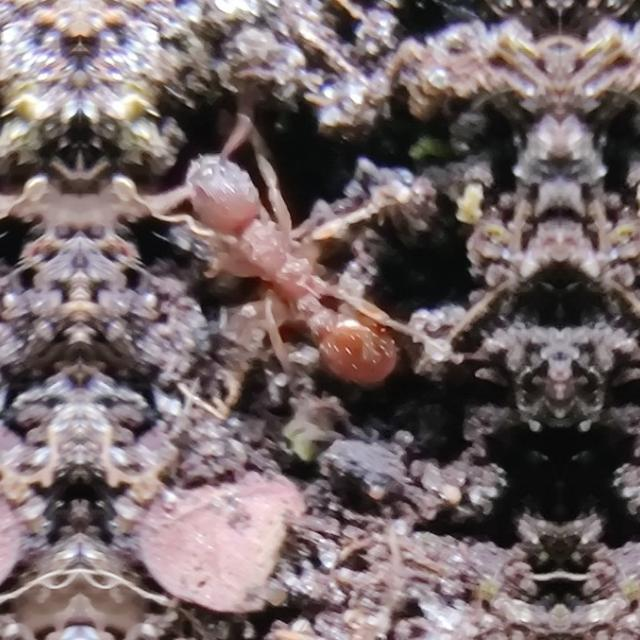Myrmica: (142, 114, 430, 408)
